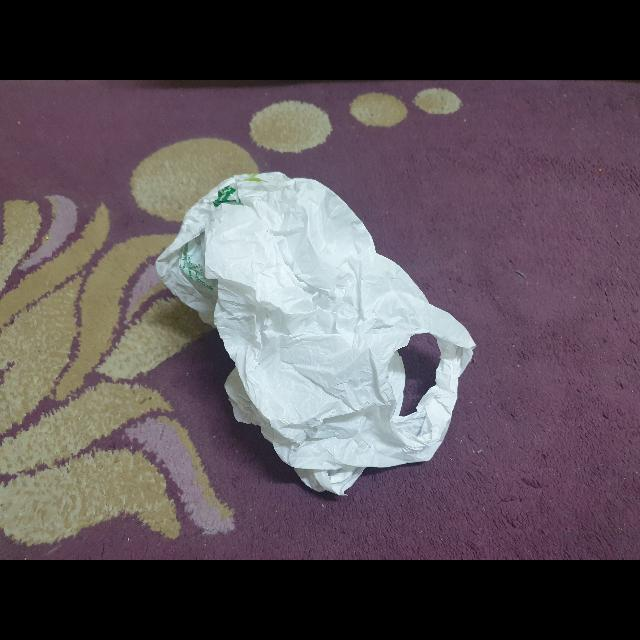plastic_bag: (150, 161, 478, 504)
